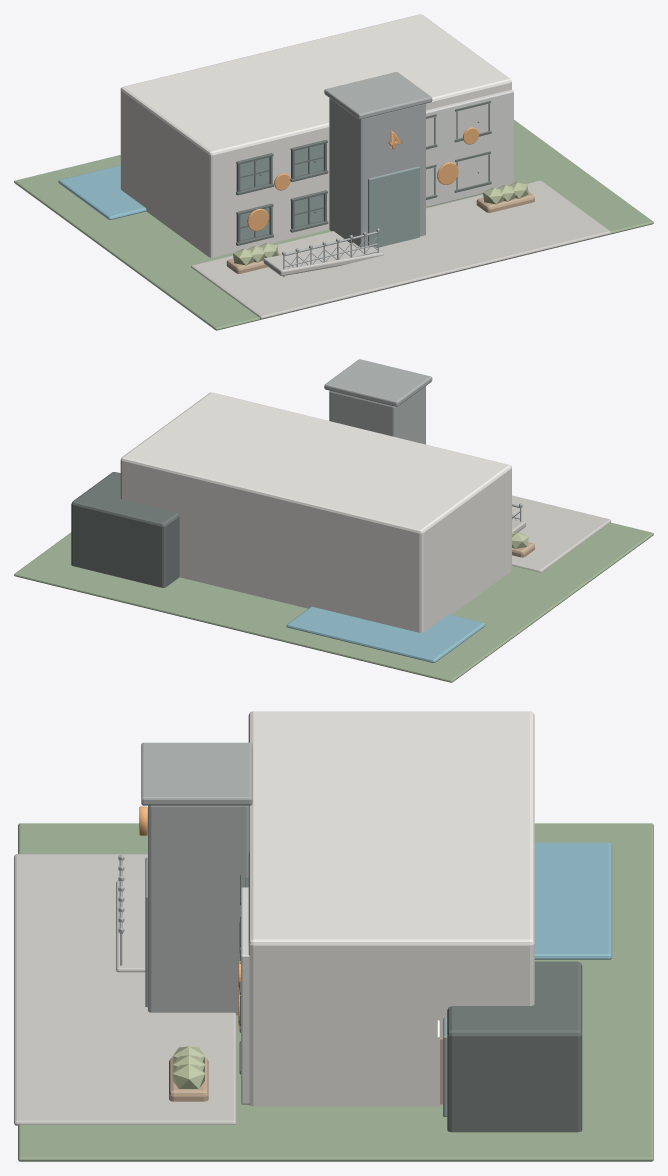
The model's file is xinhua-community-center.glb.
3 views of the same model, one above another, from view 1: azimuth 30°, elevation 25°; view 2: azimuth 150°, elevation 25°; view 3: azimuth 270°, elevation 25° (orthographic). The views are drawn at different scales.
Parts seen in each view (by area): view 1: xinhua-community-center; view 2: xinhua-community-center; view 3: xinhua-community-center.
Part boxes in pixels (box(x1,y1,x2,y2)): xinhua-community-center: box(14, 14, 653, 330); xinhua-community-center: box(14, 359, 653, 682); xinhua-community-center: box(14, 711, 653, 1161).
Size of the model in its own units: 20 by 6.24 by 16.1.
